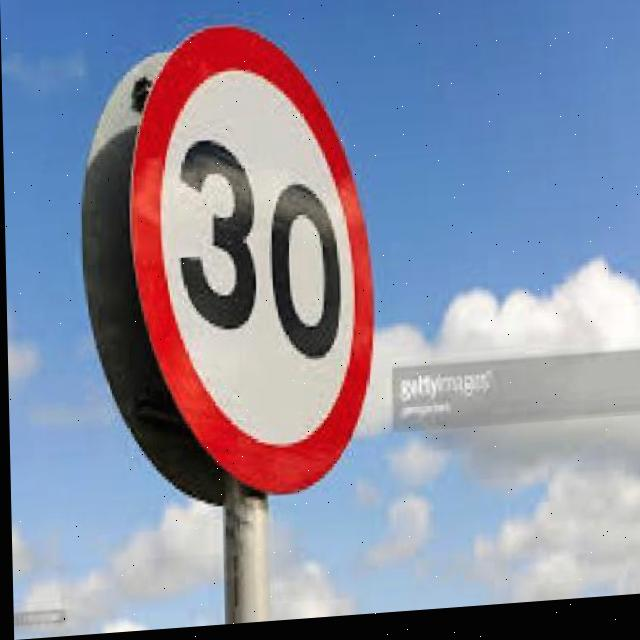Speed limit 30: (74, 15, 383, 517)
